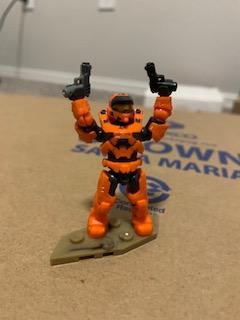pistol: (138, 61, 180, 99), (62, 62, 94, 102)
spartan: (63, 81, 174, 239)
up: (64, 86, 173, 162)
